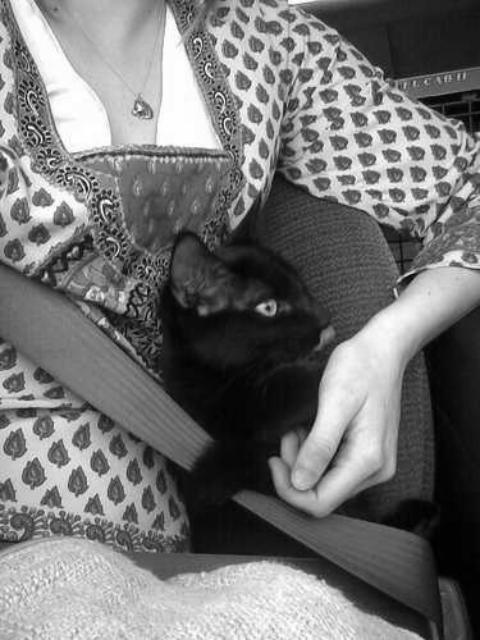Seatbelt: (1, 250, 458, 640)
